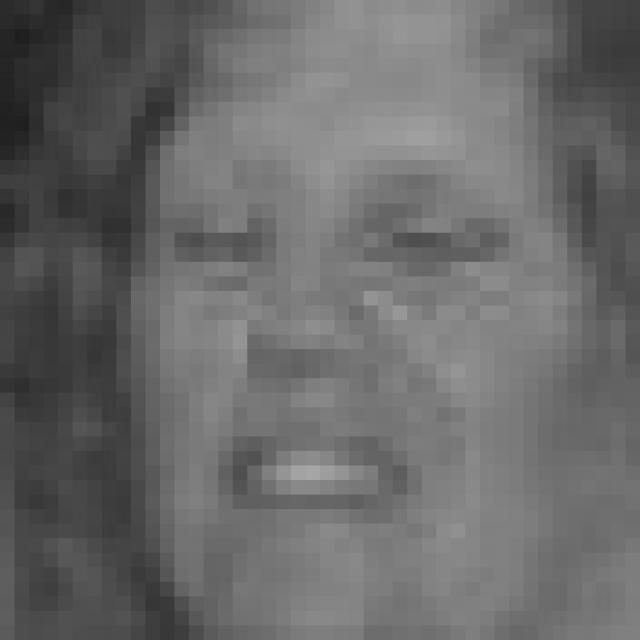real: (106, 36, 618, 626), (183, 173, 543, 298)
